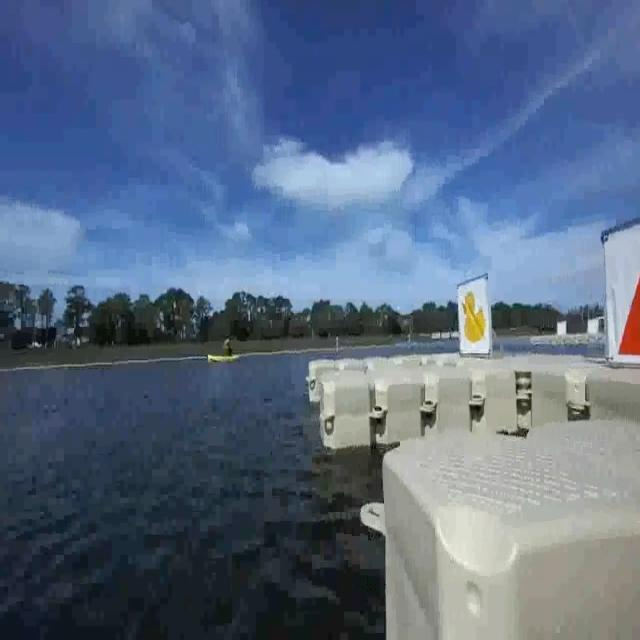yellow-duck: (460, 287, 486, 345)
